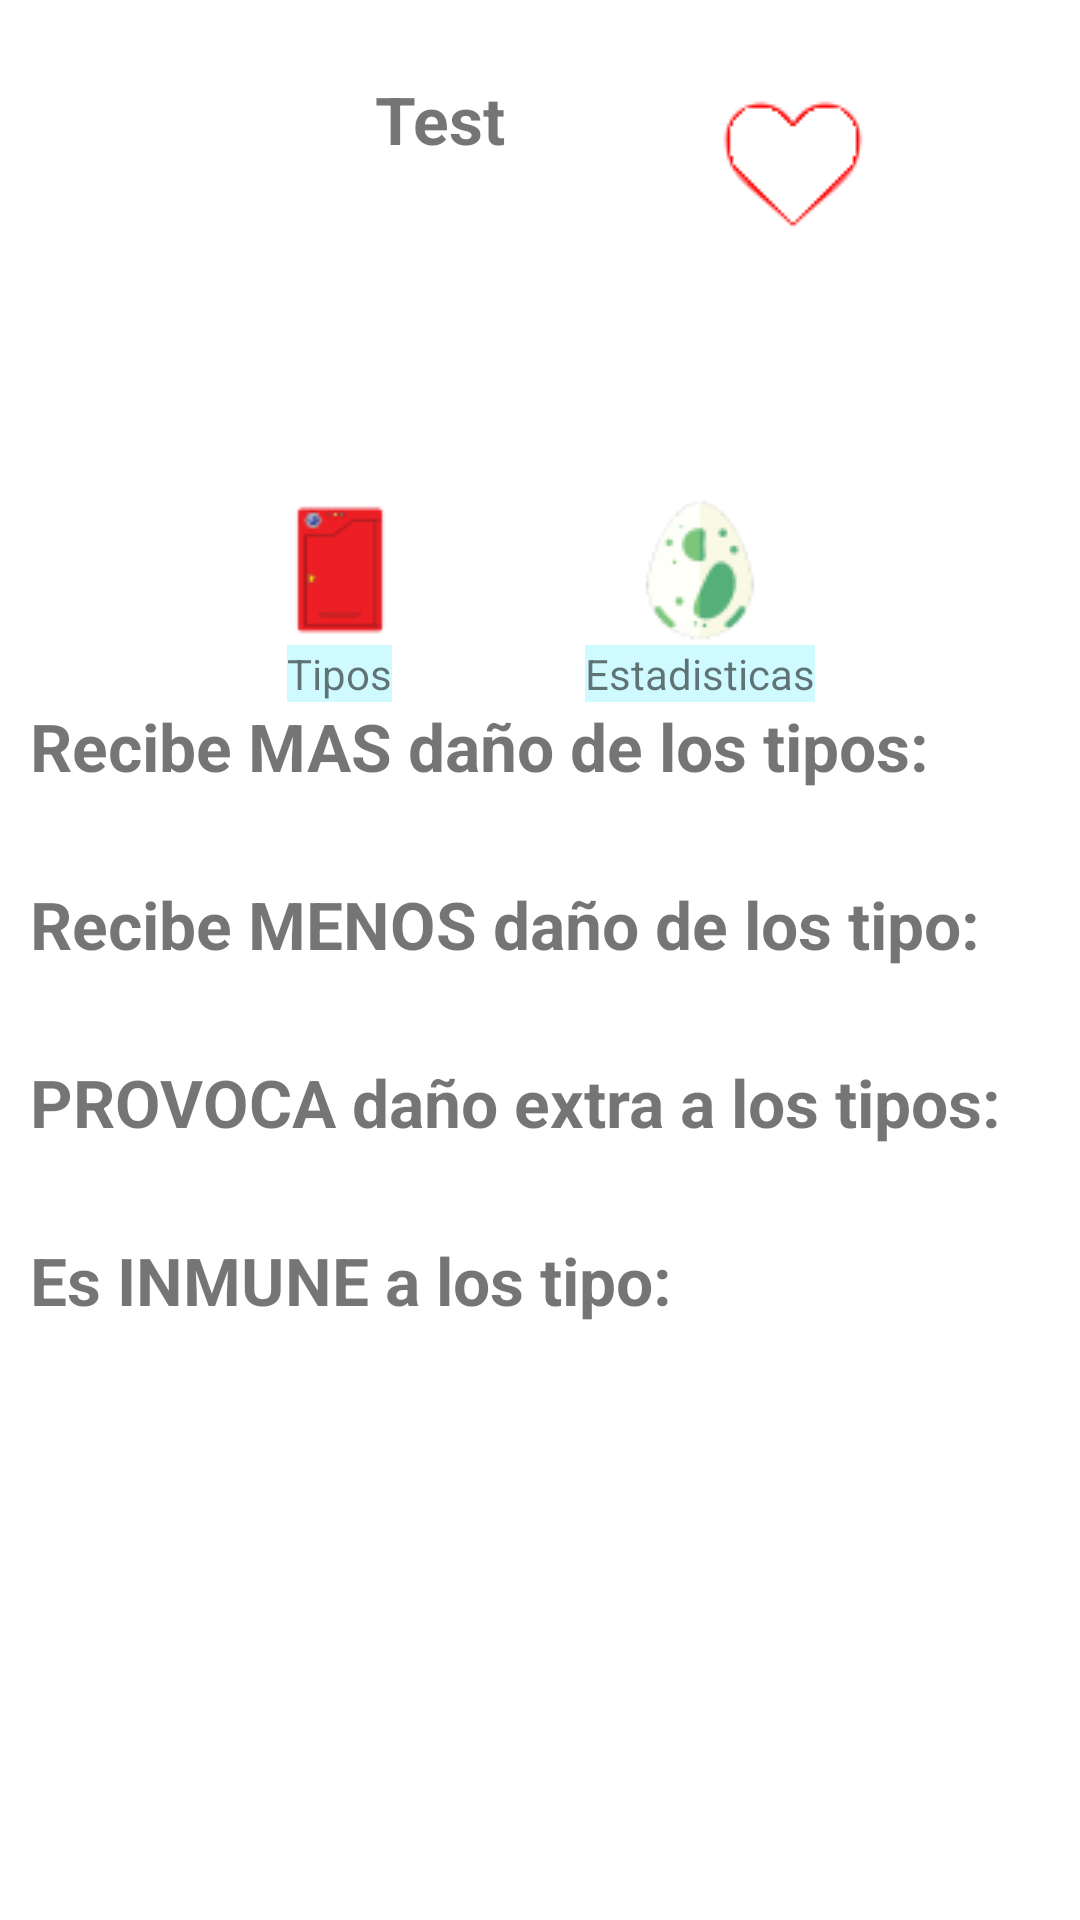

Icon click points for this 1080 × 1920 phone screenshot, format (x=x, y=y):
corazonempty: (x=793, y=163)
egg: (x=700, y=570)
